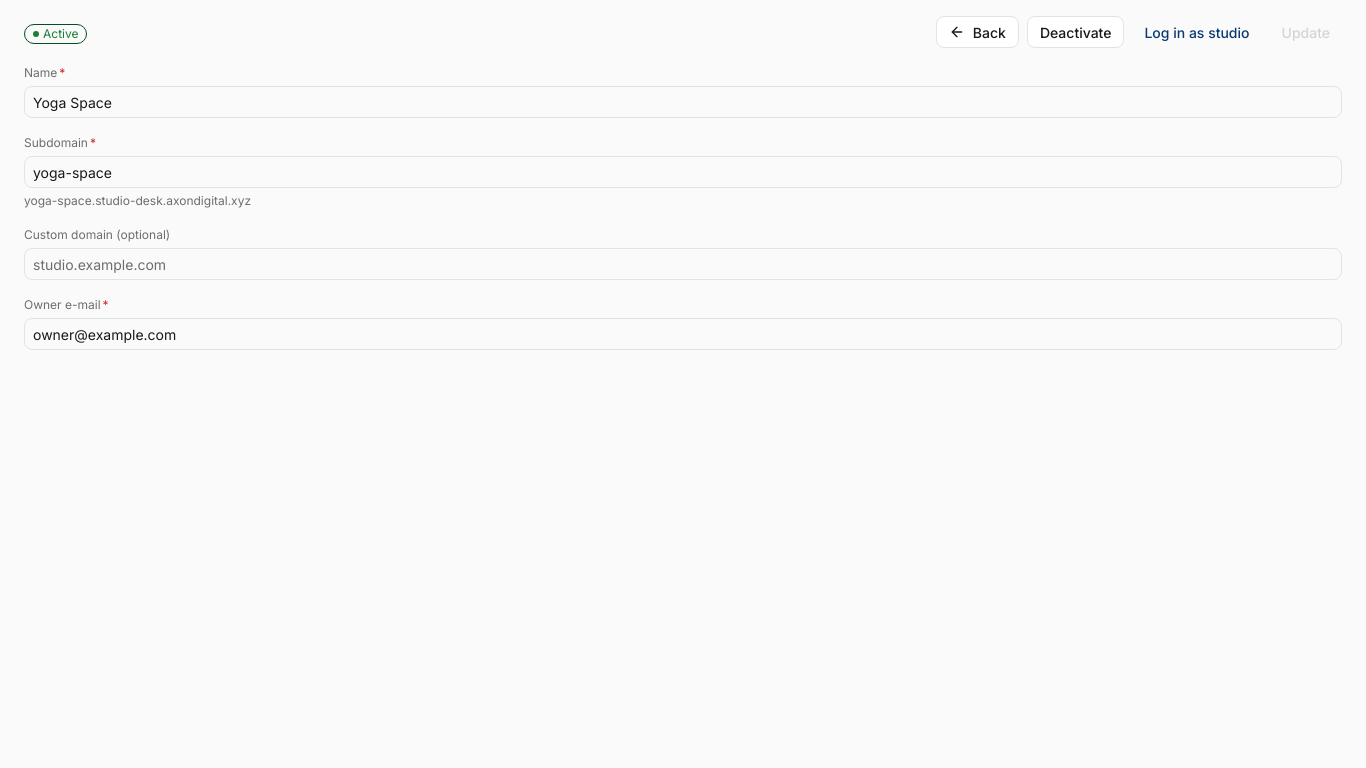
Test: StudioPage: actions › Cancel closes the window without a request
Step 1. Click the button "Deactivate" → (1076, 32), box x1=1027 y1=16 x2=1124 y2=48
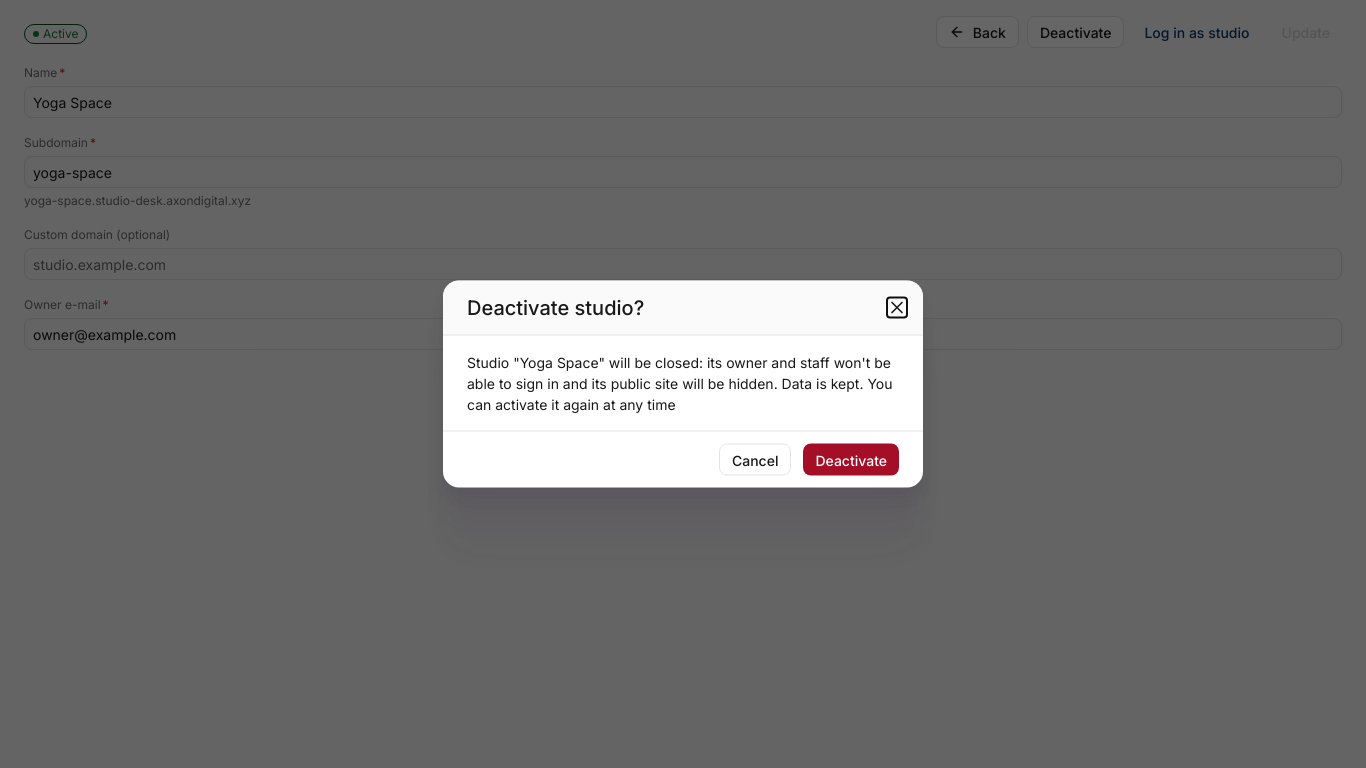
Step 2. Click the button "Cancel" → (755, 460), box x1=719 y1=444 x2=792 y2=476
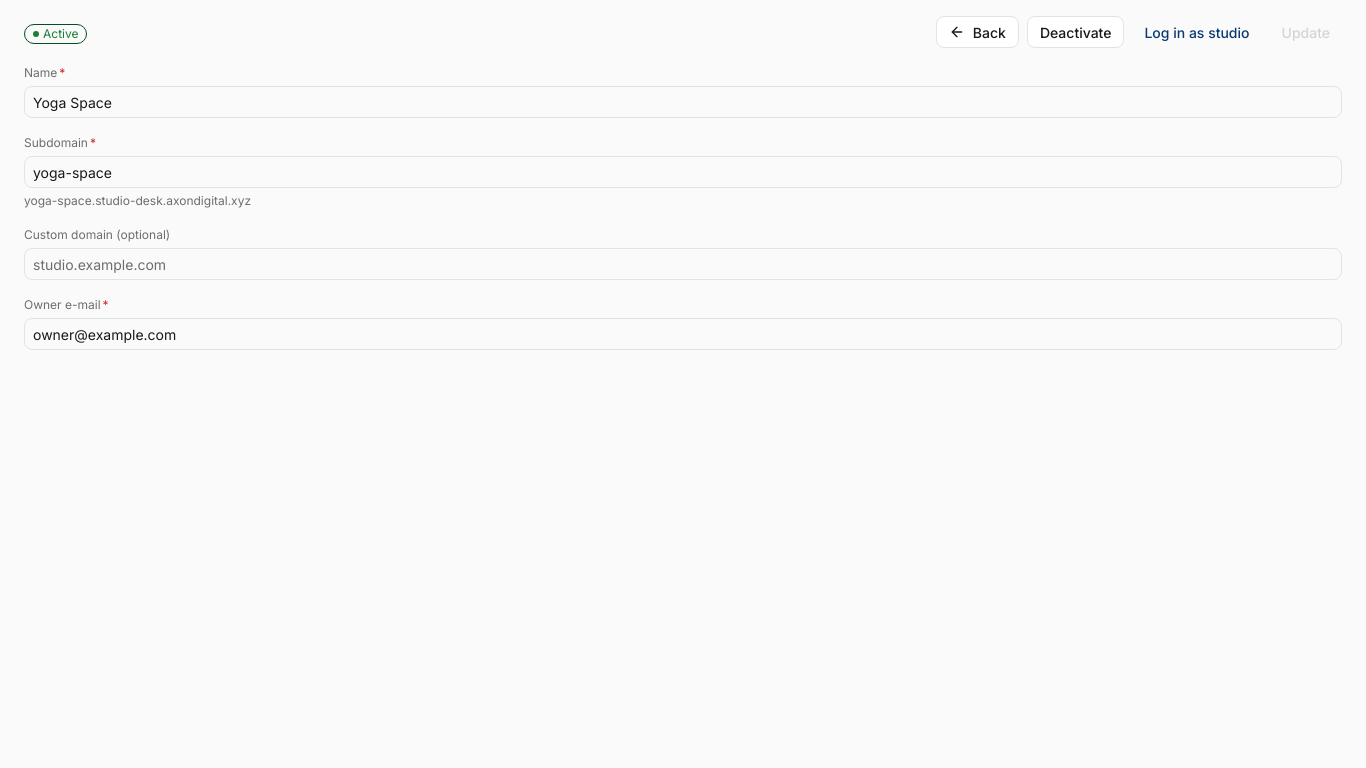
Expected: the heading "Deactivate studio?" is gone
